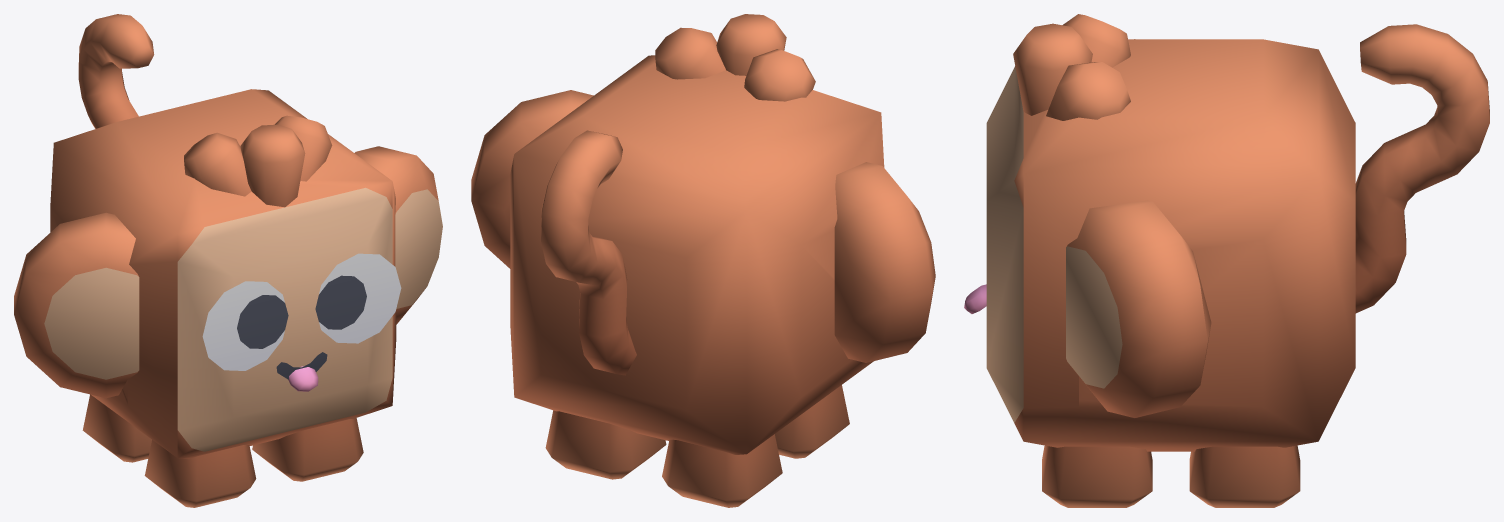
Rendered from monkey.glb.
3 views of the same model, side by side, from view 1: azimuth 30°, elevation 25°; view 2: azimuth 150°, elevation 25°; view 3: azimuth 270°, elevation 25° (orthographic). The views are drawn at different scales.
Visible parts, largest first — view 1: animal-monkey; view 2: animal-monkey; view 3: animal-monkey.
Boxes of the visible parts, box(x1,y1,x2,y2) form: animal-monkey: box(14, 14, 442, 507); animal-monkey: box(471, 14, 935, 507); animal-monkey: box(964, 14, 1489, 507).
Bounding box in the file's own units: 1.98 × 1.61 × 1.78.
Materials: 1 (1 with a texture image).
